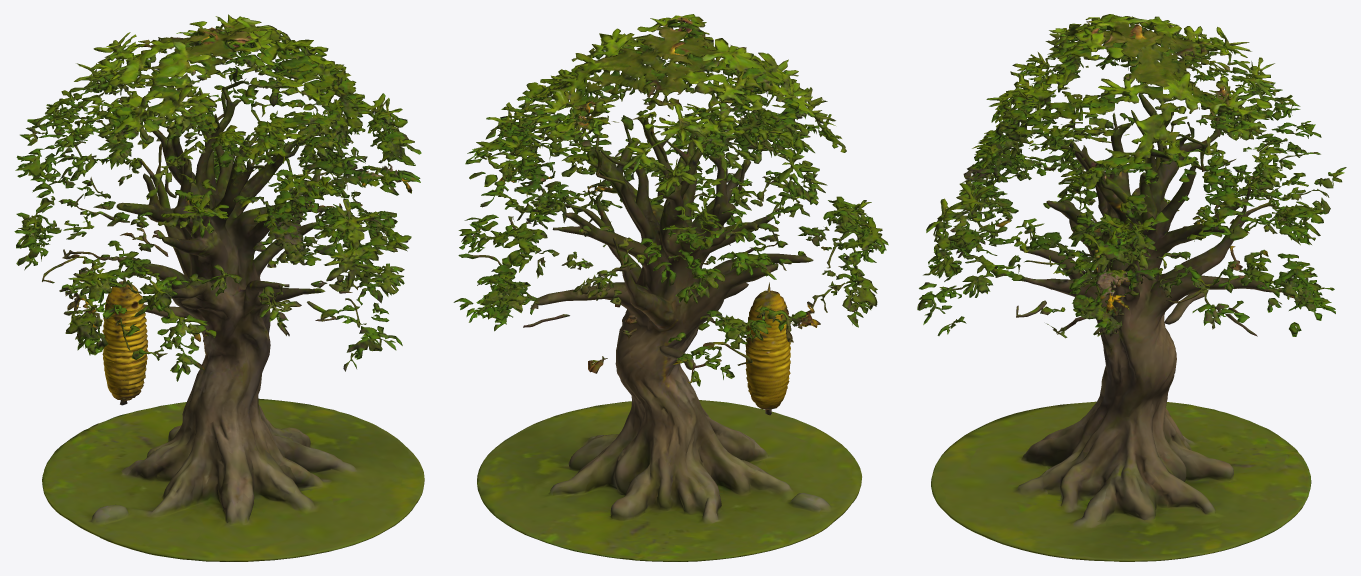
File: tree_beehive.glb
3 renders of one model, left to right at view 1: azimuth 30°, elevation 25°; view 2: azimuth 150°, elevation 25°; view 3: azimuth 270°, elevation 25°, orthographic.
Size of the model in its own units: 1.65 by 1.96 by 1.68.
Materials: 1 (1 with a texture image).
